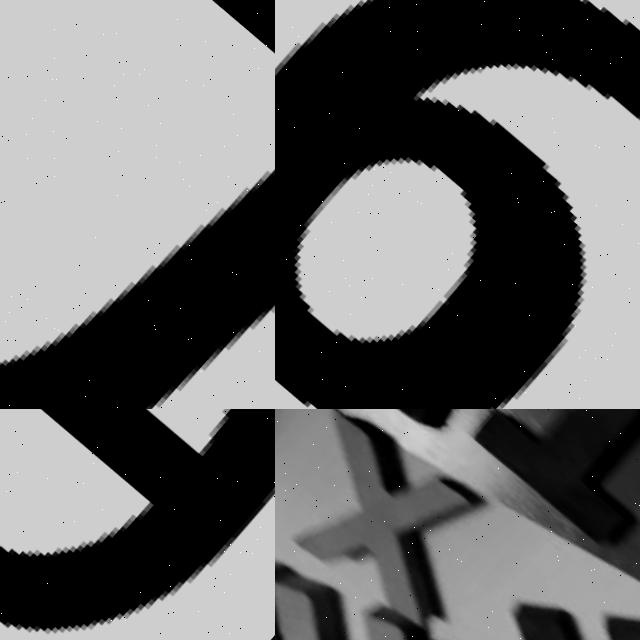9: (275, 0, 640, 409)
L: (275, 464, 386, 640)
R: (0, 5, 275, 409), (275, 526, 523, 640)
T: (466, 409, 640, 544)
X: (275, 409, 525, 640)
